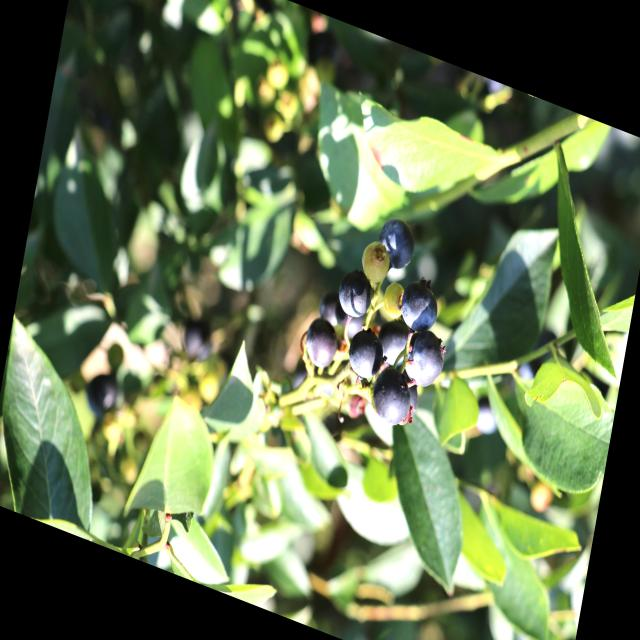blueberry: (400, 328, 448, 394), (368, 365, 414, 432), (374, 211, 419, 276), (398, 278, 443, 342), (344, 326, 384, 386), (374, 318, 413, 377), (336, 268, 375, 321), (304, 318, 341, 372), (316, 294, 352, 332)
blueberry-unripe: (359, 236, 392, 286), (380, 279, 406, 319)
